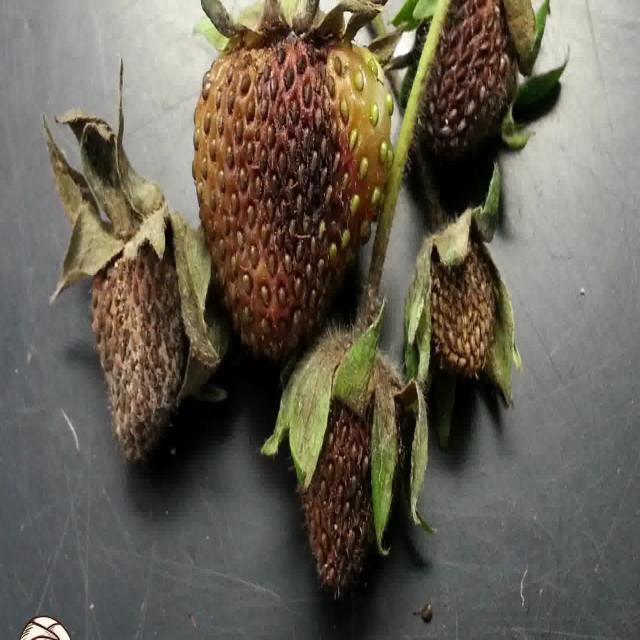Podredumbre de cuero: (194, 15, 404, 348), (76, 178, 192, 448), (294, 362, 416, 614), (424, 211, 530, 423), (416, 0, 544, 166)
